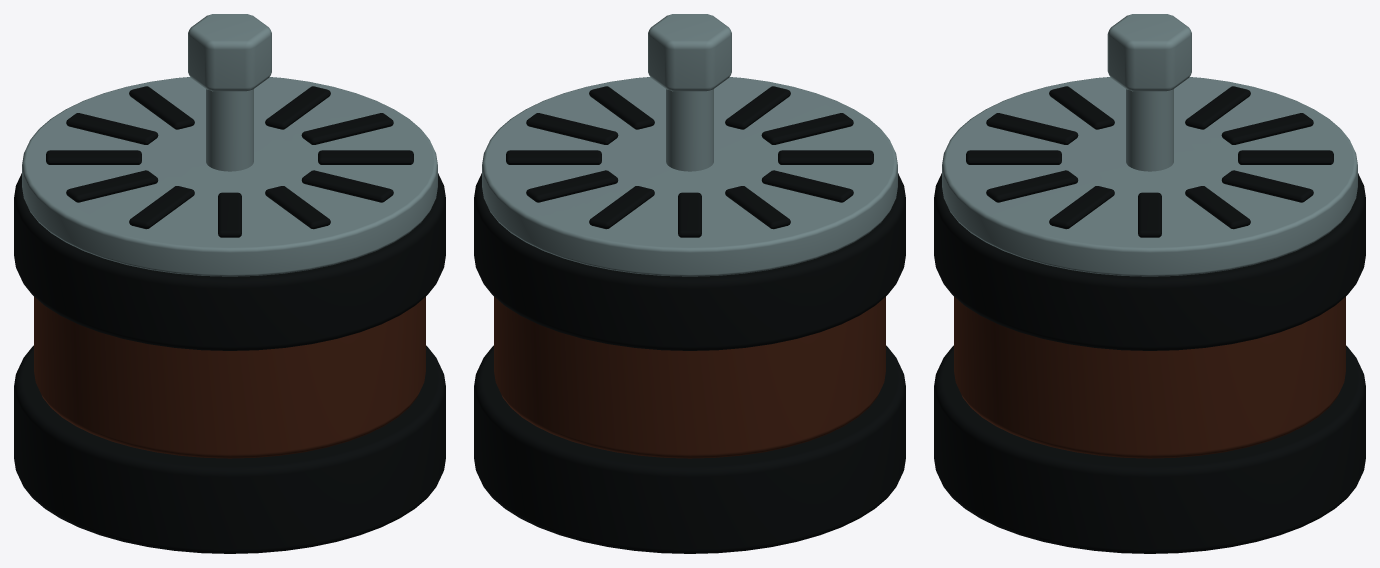
Rendered from motor.obj.
3 renders of one model, left to right at view 1: azimuth 30°, elevation 25°; view 2: azimuth 150°, elevation 25°; view 3: azimuth 270°, elevation 25°, orthographic.
Parts seen in each view (by area): view 1: Motor_top_plate.003, Motor_base.003, Copper_stator.003, Outrunner_bell.003, Retaining_nut.003, Motor_drive_shaft_04, Radial_cooling_vent.047, Radial_cooling_vent.041, Radial_cooling_vent.042, Radial_cooling_vent.046, Radial_cooling_vent.040, Radial_cooling_vent.036 (+5 smaller); view 2: Motor_top_plate.003, Motor_base.003, Copper_stator.003, Outrunner_bell.003, Retaining_nut.003, Motor_drive_shaft_04, Radial_cooling_vent.043, Radial_cooling_vent.037, Radial_cooling_vent.042, Radial_cooling_vent.038, Radial_cooling_vent.044, Radial_cooling_vent.036 (+5 smaller); view 3: Motor_top_plate.003, Motor_base.003, Copper_stator.003, Outrunner_bell.003, Retaining_nut.003, Motor_drive_shaft_04, Radial_cooling_vent.045, Radial_cooling_vent.039, Radial_cooling_vent.046, Radial_cooling_vent.038, Radial_cooling_vent.044, Radial_cooling_vent.040 (+5 smaller).
Part boxes in pixels (x1=…): Motor_top_plate.003: x1=22, y1=77, x2=437, y2=276; Motor_base.003: x1=14, y1=345, x2=445, y2=553; Copper_stator.003: x1=34, y1=297, x2=425, y2=458; Outrunner_bell.003: x1=14, y1=173, x2=445, y2=350; Retaining_nut.003: x1=188, y1=14, x2=271, y2=91; Motor_drive_shaft_04: x1=206, y1=89, x2=253, y2=171; Radial_cooling_vent.047: x1=318, y1=150, x2=413, y2=164; Radial_cooling_vent.041: x1=46, y1=150, x2=141, y2=164; Radial_cooling_vent.042: x1=66, y1=170, x2=158, y2=202; Radial_cooling_vent.046: x1=301, y1=170, x2=393, y2=202; Radial_cooling_vent.040: x1=66, y1=113, x2=158, y2=144; Radial_cooling_vent.036: x1=301, y1=113, x2=393, y2=144; Motor_top_plate.003: x1=482, y1=77, x2=897, y2=276; Motor_base.003: x1=474, y1=345, x2=905, y2=553; Copper_stator.003: x1=494, y1=297, x2=885, y2=458; Outrunner_bell.003: x1=474, y1=173, x2=905, y2=350; Retaining_nut.003: x1=648, y1=14, x2=731, y2=91; Motor_drive_shaft_04: x1=666, y1=89, x2=713, y2=171; Radial_cooling_vent.043: x1=778, y1=150, x2=873, y2=164; Radial_cooling_vent.037: x1=506, y1=150, x2=601, y2=164; Radial_cooling_vent.042: x1=761, y1=170, x2=853, y2=202; Radial_cooling_vent.038: x1=526, y1=170, x2=618, y2=202; Radial_cooling_vent.044: x1=761, y1=113, x2=853, y2=144; Radial_cooling_vent.036: x1=526, y1=113, x2=618, y2=144; Motor_top_plate.003: x1=942, y1=77, x2=1357, y2=276; Motor_base.003: x1=934, y1=345, x2=1365, y2=553; Copper_stator.003: x1=954, y1=297, x2=1345, y2=458; Outrunner_bell.003: x1=934, y1=173, x2=1365, y2=350; Retaining_nut.003: x1=1107, y1=14, x2=1191, y2=91; Motor_drive_shaft_04: x1=1126, y1=89, x2=1173, y2=171; Radial_cooling_vent.045: x1=966, y1=150, x2=1061, y2=164; Radial_cooling_vent.039: x1=1238, y1=150, x2=1333, y2=164; Radial_cooling_vent.046: x1=986, y1=170, x2=1078, y2=202; Radial_cooling_vent.038: x1=1221, y1=170, x2=1313, y2=202; Radial_cooling_vent.044: x1=986, y1=113, x2=1078, y2=144; Radial_cooling_vent.040: x1=1221, y1=113, x2=1313, y2=144.
Size of the model in its own units: 0.054 by 0.0605 by 0.054.
